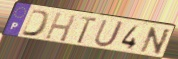4: (119, 25, 139, 51)
D: (19, 8, 52, 38)
H: (43, 11, 78, 43)
N: (139, 26, 173, 56)
T: (75, 15, 99, 45)
U: (92, 19, 126, 49)
